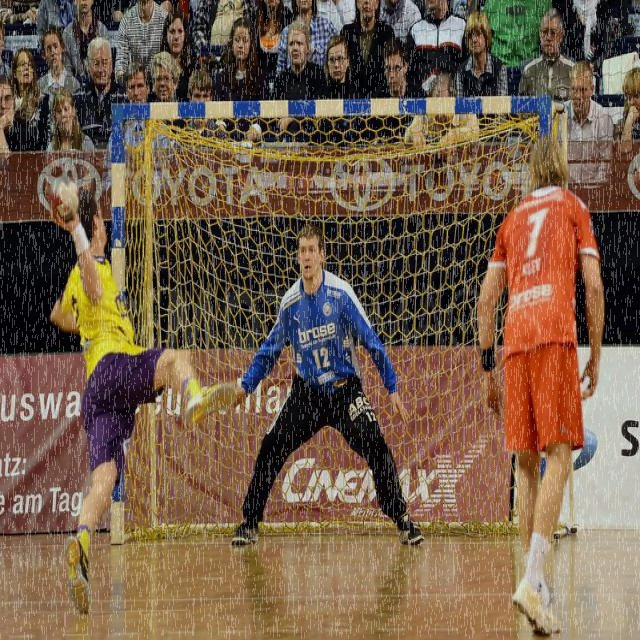pessoa: (38, 170, 239, 618), (472, 127, 609, 639), (219, 216, 426, 552), (338, 0, 398, 149), (210, 16, 272, 142), (402, 68, 482, 162), (556, 60, 616, 184), (454, 8, 509, 142), (310, 32, 372, 148), (269, 18, 329, 134), (72, 36, 130, 148), (518, 8, 578, 102), (376, 39, 426, 144), (112, 0, 170, 90), (4, 45, 51, 152), (35, 24, 82, 125), (591, 0, 639, 96), (122, 60, 164, 169), (248, 0, 294, 94), (492, 0, 539, 92), (173, 67, 230, 141), (158, 11, 202, 102), (61, 0, 112, 77), (188, 0, 234, 80), (44, 86, 96, 152), (148, 49, 188, 131), (0, 73, 35, 154), (0, 0, 45, 62), (612, 66, 640, 144), (559, 0, 592, 66), (378, 0, 423, 38), (90, 0, 136, 33), (43, 0, 78, 35), (451, 0, 494, 18), (154, 0, 188, 16), (0, 60, 15, 88), (232, 0, 251, 18), (540, 0, 560, 13)
